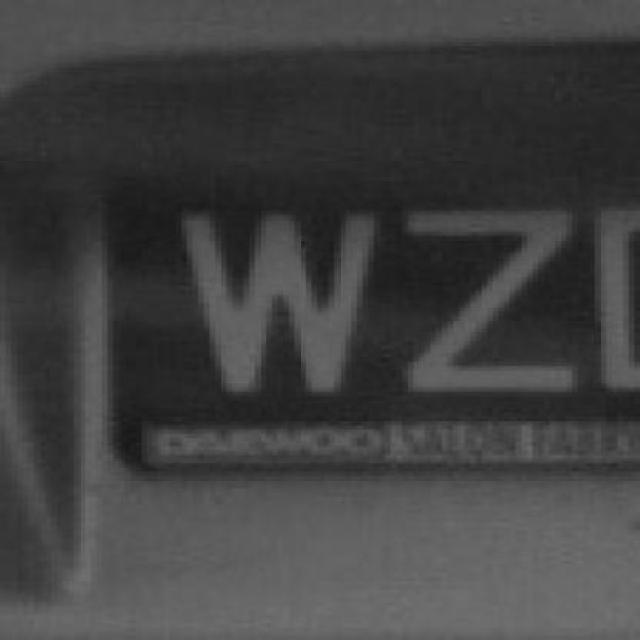licenseplate: (92, 173, 640, 479)
